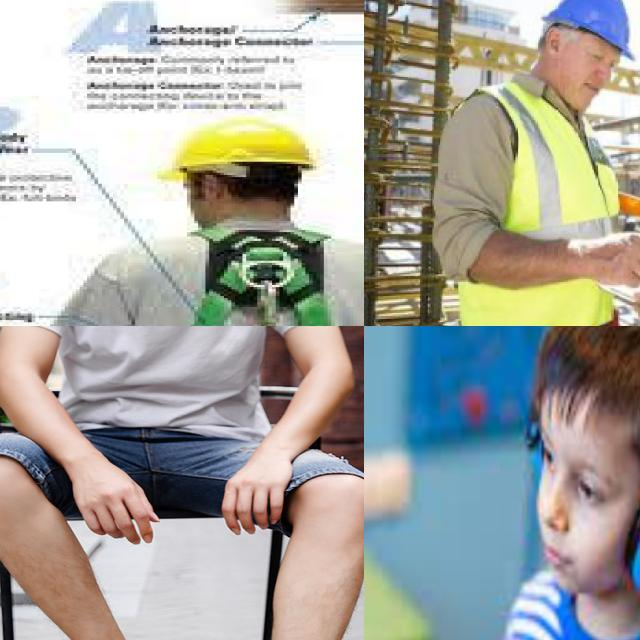Ear-protection: (528, 326, 640, 616)
Harness: (129, 225, 364, 326)
No_Ear-Protection: (540, 27, 565, 61)
No_Glasses: (581, 40, 620, 75)
face_nomask: (558, 58, 607, 114)
hand_noglove: (568, 234, 640, 286)
head_helmet: (542, 0, 634, 59)
person: (477, 326, 640, 640)
